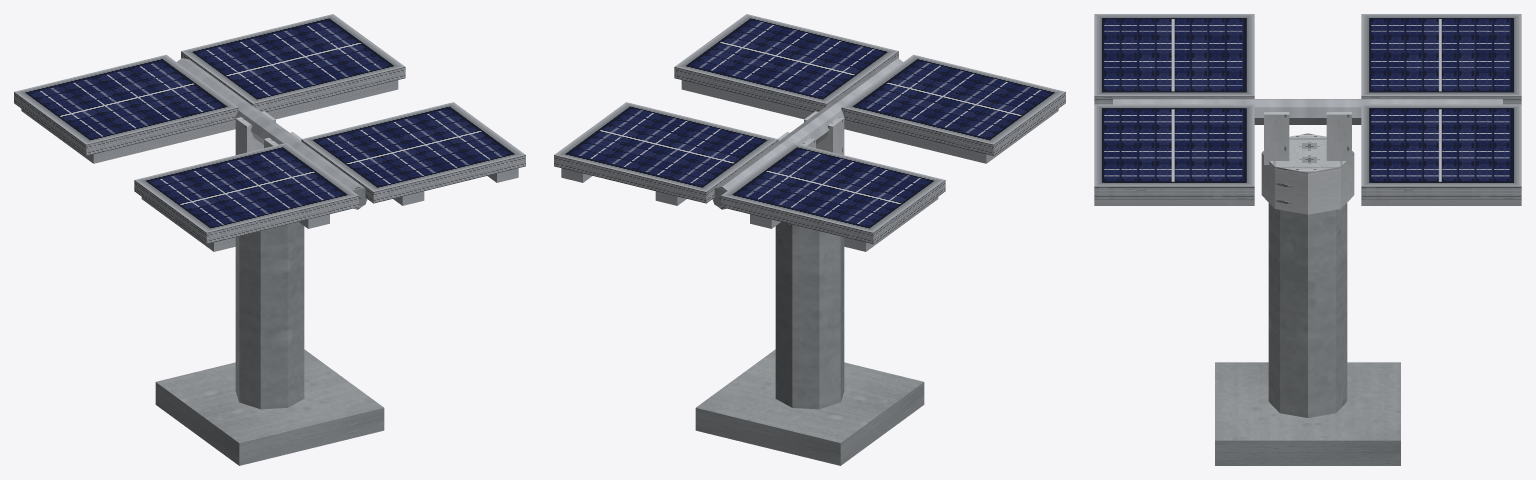
Rendered from pv_dual.obj.
The picture shows the model from 3 angles, left to right: view 1: azimuth 30°, elevation 25°; view 2: azimuth 150°, elevation 25°; view 3: azimuth 270°, elevation 25°; orthographic projection. The views are drawn at different scales.
Parts seen in each view (by area): view 1: rotate_elevation_modules, pedestal, rotate_elevation, rotate_azimuth; view 2: rotate_elevation_modules, pedestal, rotate_elevation, rotate_azimuth; view 3: rotate_elevation_modules, pedestal, rotate_azimuth, rotate_elevation.
Part boxes in pixels (<box>): rotate_elevation_modules: <box>14,14,525,243</box>; pedestal: <box>155,222,384,465</box>; rotate_elevation: <box>21,58,518,251</box>; rotate_azimuth: <box>235,111,301,224</box>; rotate_elevation_modules: <box>554,14,1065,243</box>; pedestal: <box>695,222,924,465</box>; rotate_elevation: <box>561,58,1058,251</box>; rotate_azimuth: <box>778,111,844,224</box>; rotate_elevation_modules: <box>1094,14,1521,199</box>; pedestal: <box>1215,203,1400,465</box>; rotate_azimuth: <box>1261,112,1354,214</box>; rotate_elevation: <box>1094,99,1521,205</box>.
Size of what is drawn, in the model's own units: 0.88 by 0.7775 by 0.92.
